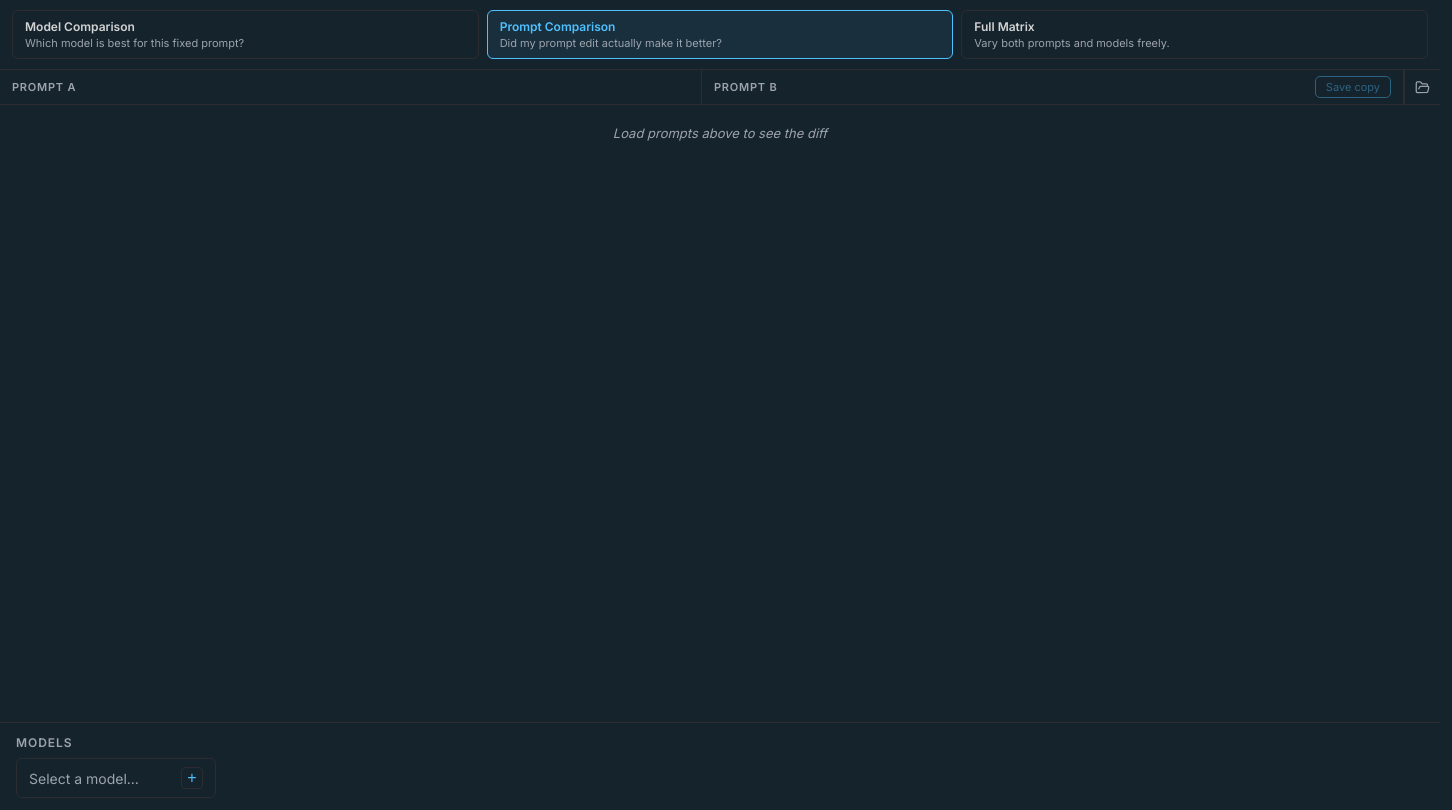
Test case: PromptsPage - loading a saved prompt › shows Prompt A content in diff after clicking Load
The width and height of the screenshot is (1452, 810).
Note: Open load controls first (hidden by default)
Click the button titled "load a prompt file" at (1422, 87), box [1404,70,1440,104]
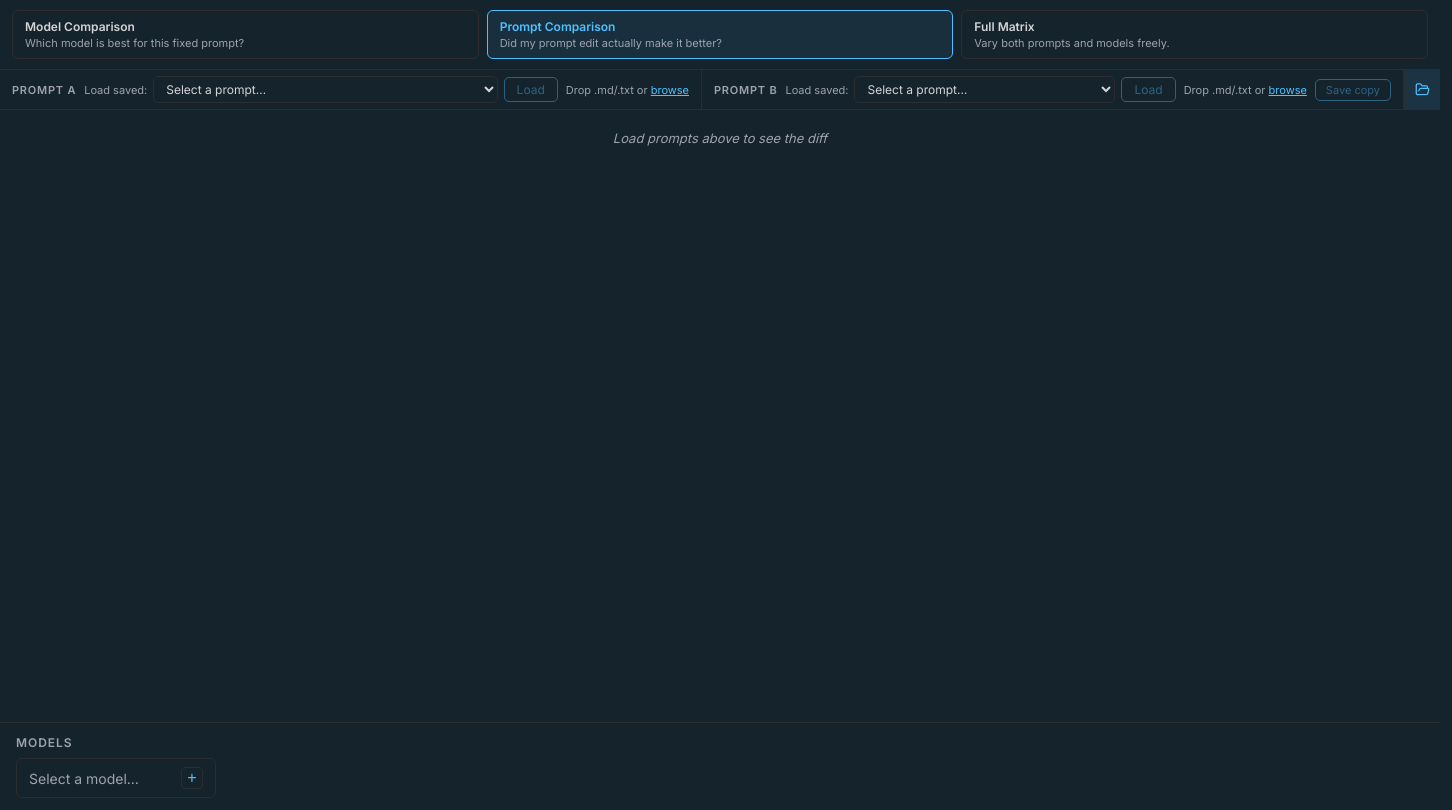
Select "Test Prompt" in the 1st dropdown named "Select prompt" at (325, 90), box [153,76,498,103]
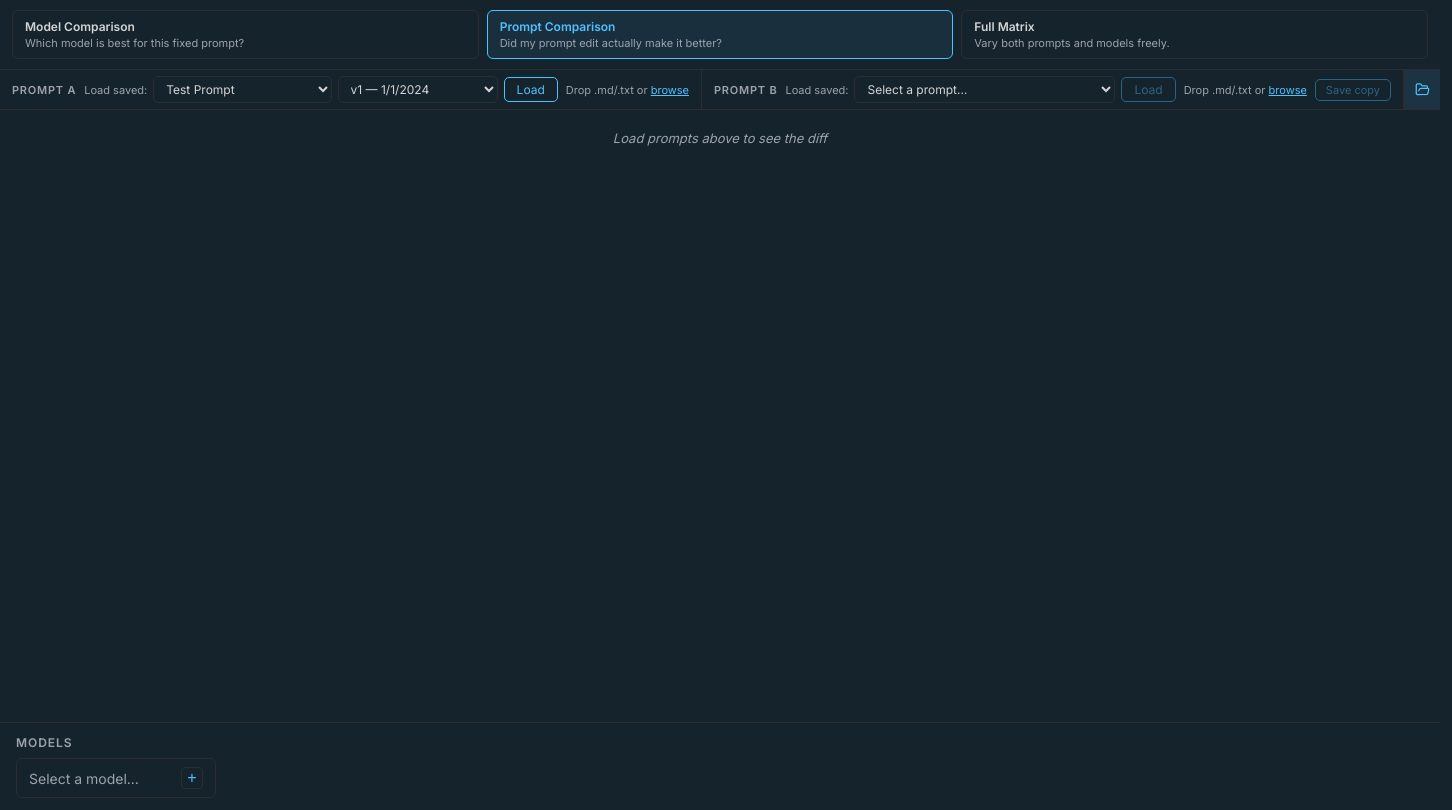
Click the 1st button "Load" at (531, 90), box [504,77,558,102]
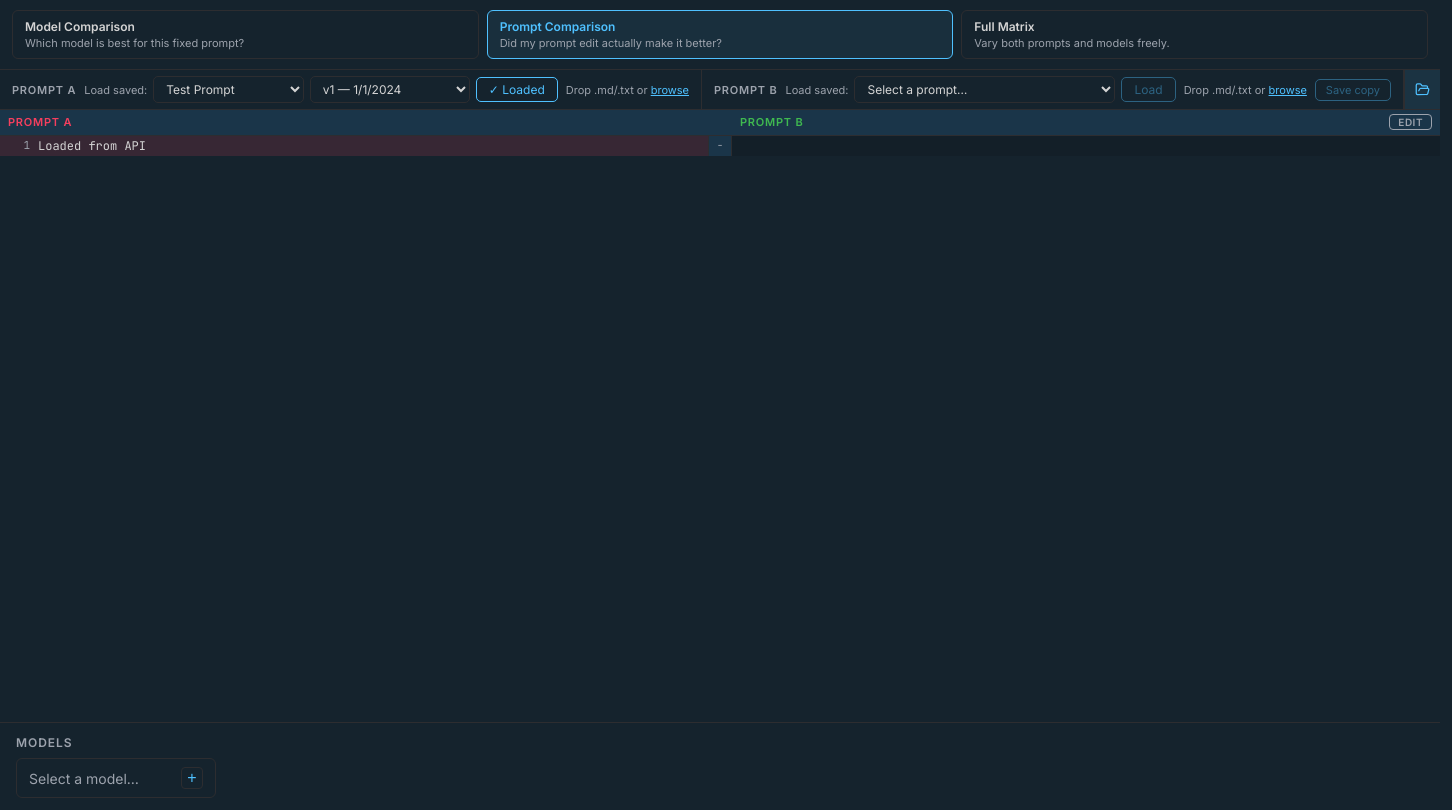
Expected: the text "Loaded from API" is shown, [38,138,146,154]
